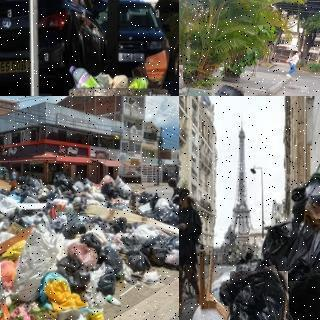Garbage: (12, 225, 62, 298), (225, 267, 292, 320), (261, 221, 320, 281), (55, 253, 89, 292), (66, 241, 97, 268), (143, 234, 168, 263), (125, 248, 150, 271), (210, 82, 244, 96), (170, 234, 179, 271)
